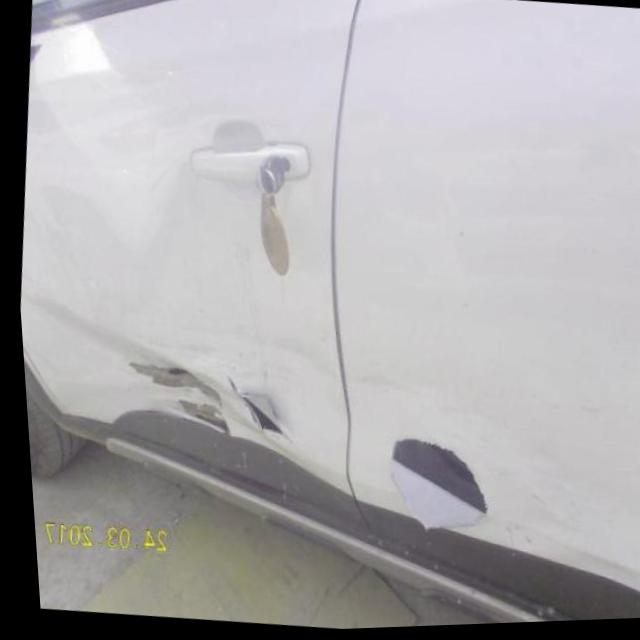Car-Damage: (147, 308, 568, 532), (115, 339, 301, 453), (361, 425, 495, 540)
